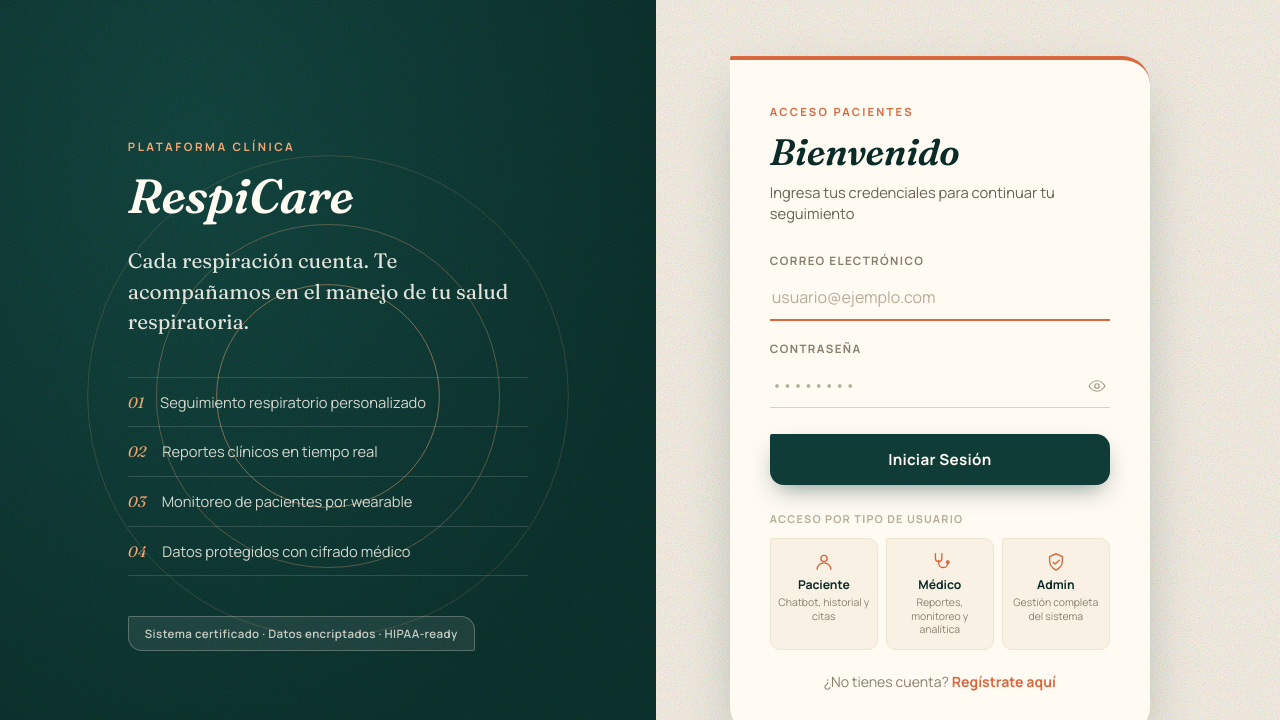
Scenario: LoginPage › shows error message when login fails
Step 1. Type "bad@test.com" into the field labelled "Correo electrónico" → [940, 298], box [770,275,1110,321]
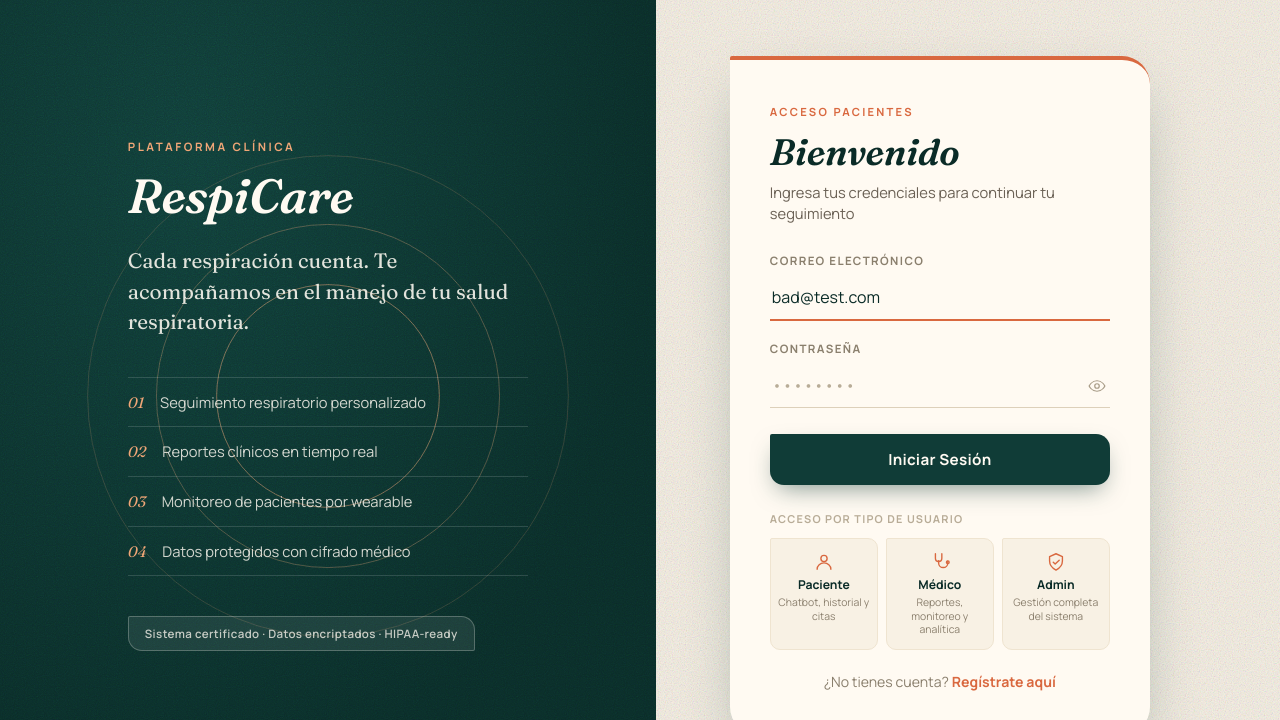
Step 2. Type "wrong" into the password field labelled "Contraseña" → [940, 386], box [770,363,1110,408]
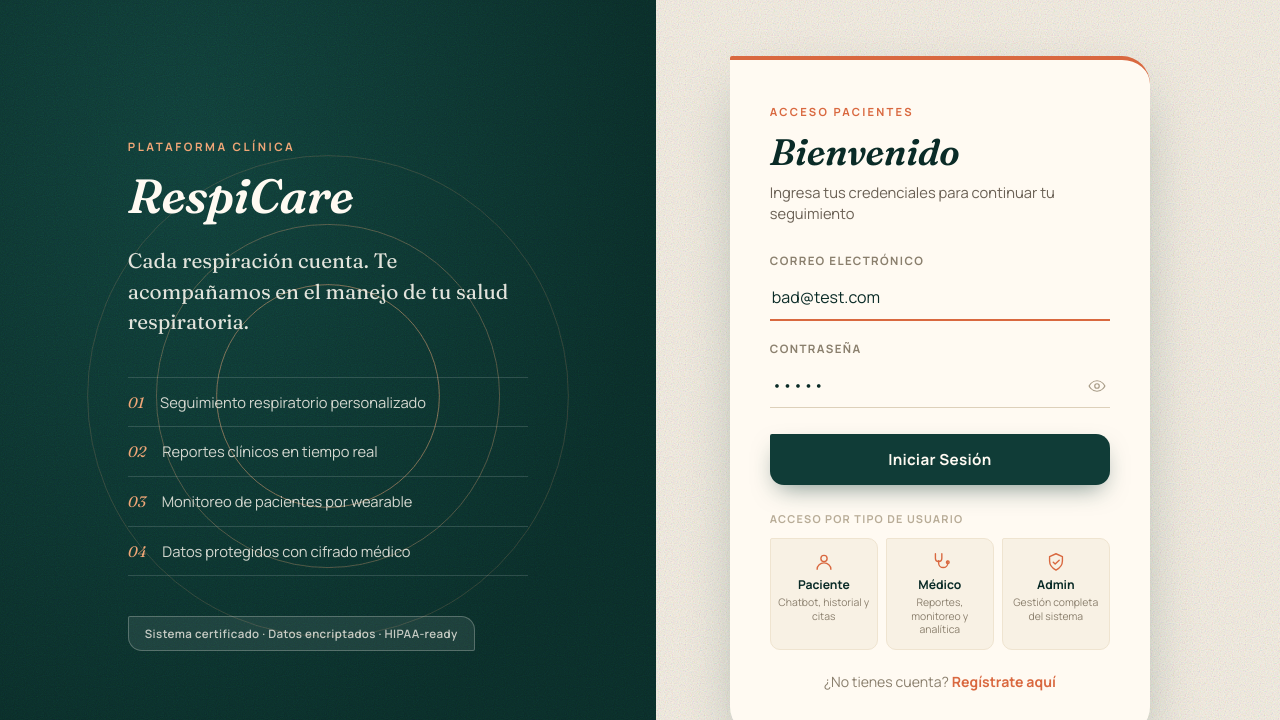
Step 3. Submit the form labelled "Contraseña", box [770,253,1110,485]
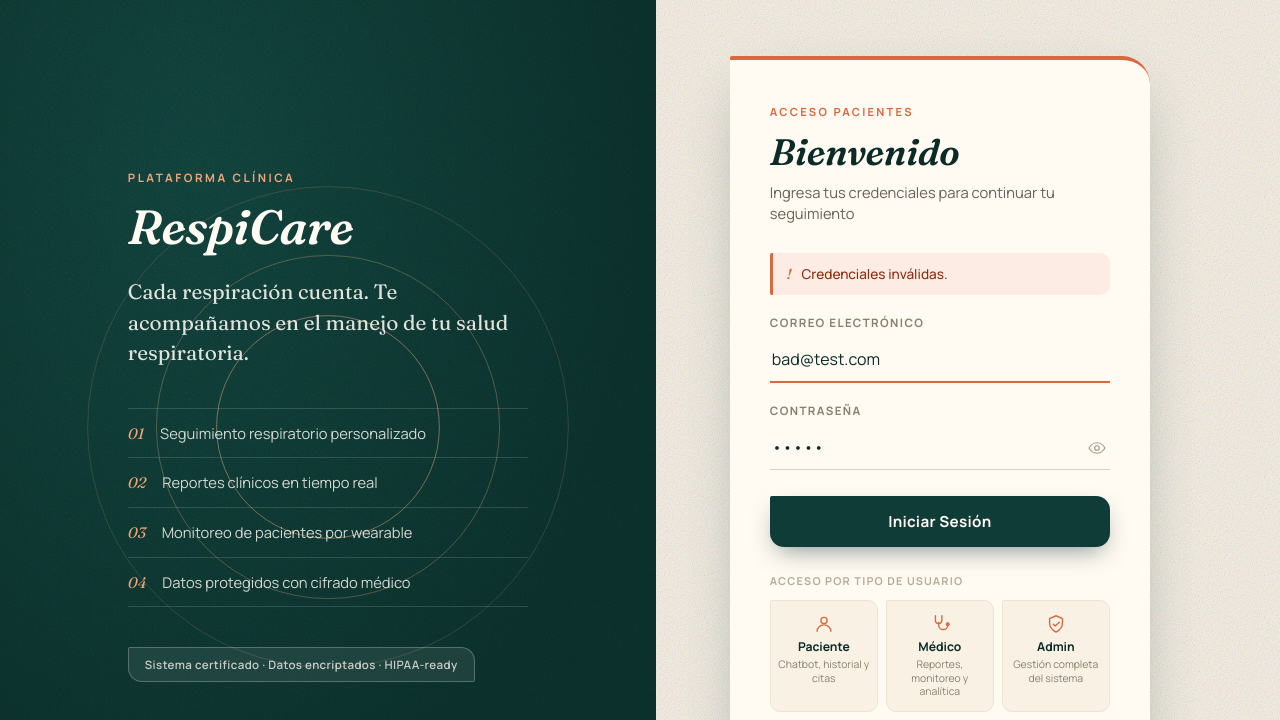
expect the message shows "Credenciales inválidas.": met, box [801,265,948,283]
